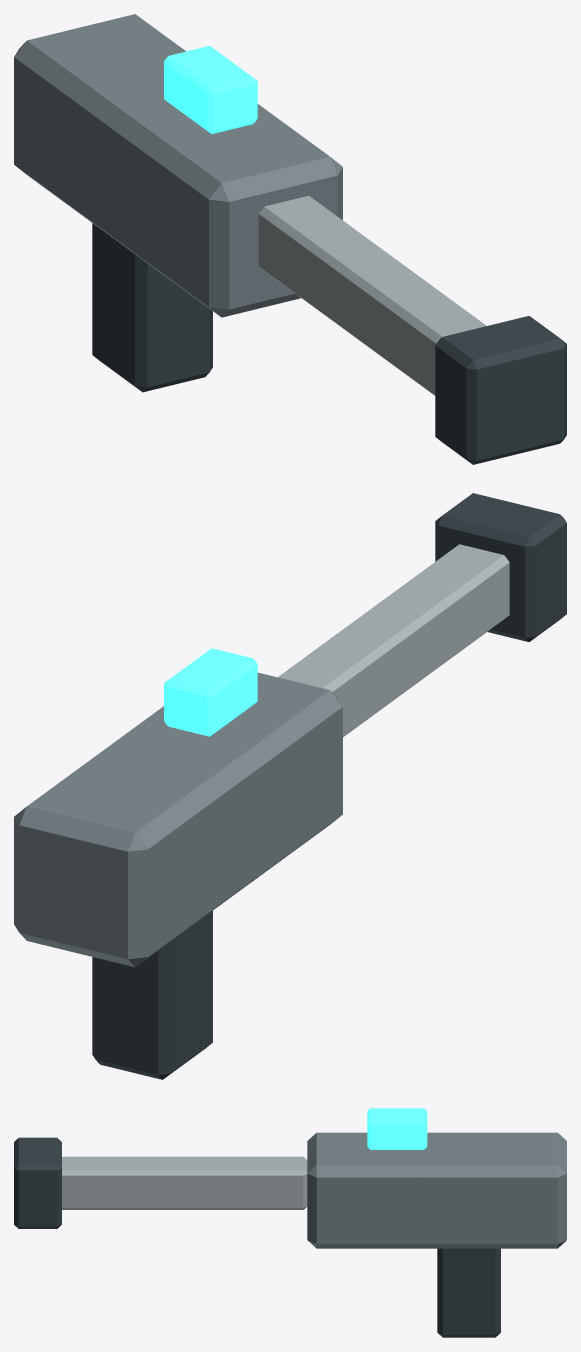
The model's file is WeaponRifle.fbx.
3 renders of one model, top to bottom at view 1: azimuth 30°, elevation 25°; view 2: azimuth 150°, elevation 25°; view 3: azimuth 270°, elevation 25°, orthographic. The views are drawn at different scales.
Parts seen in each view (by area): view 1: Rifle receiver, Barrel, Muzzle, Grip, Sight; view 2: Rifle receiver, Barrel, Grip, Muzzle, Sight; view 3: Rifle receiver, Barrel, Grip, Muzzle, Sight.
Part boxes in pixels (x1,y1,x2,y2): Rifle receiver: (14,14,342,317); Barrel: (258,195,486,395); Muzzle: (435,316,566,464); Grip: (92,223,212,392); Sight: (164,46,257,133); Rifle receiver: (14,672,342,967); Barrel: (278,544,509,736); Grip: (92,911,212,1079); Muzzle: (435,493,566,641); Sight: (164,648,257,736); Rifle receiver: (307,1132,566,1248); Barrel: (62,1156,307,1209); Grip: (437,1248,500,1337); Muzzle: (14,1137,61,1228); Sight: (367,1108,427,1149).
Size of the model in its own units: 0.24 by 0.59 by 1.38.
